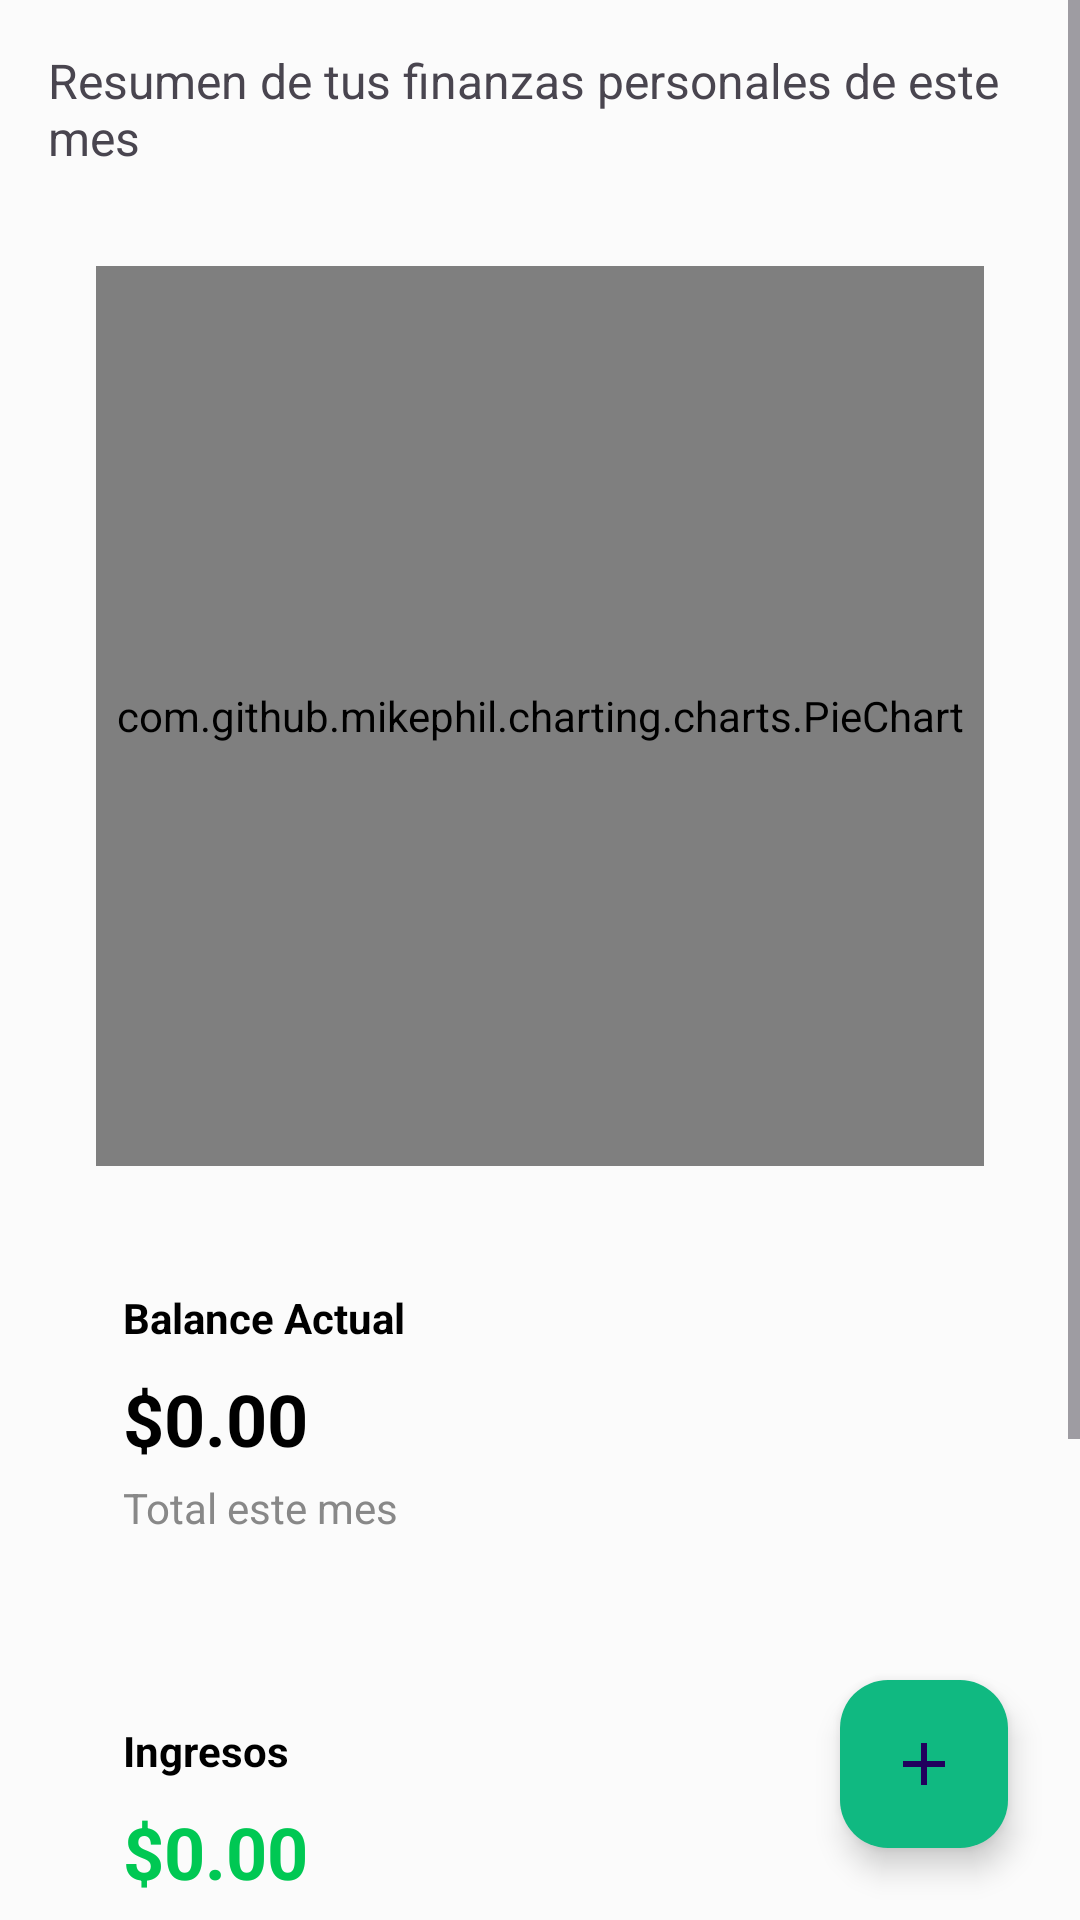

Screen size 1080w x 1920h. Icon name, then its center in pixels as (x=x, y=y):
Agregar transacción: (x=924, y=1764)
